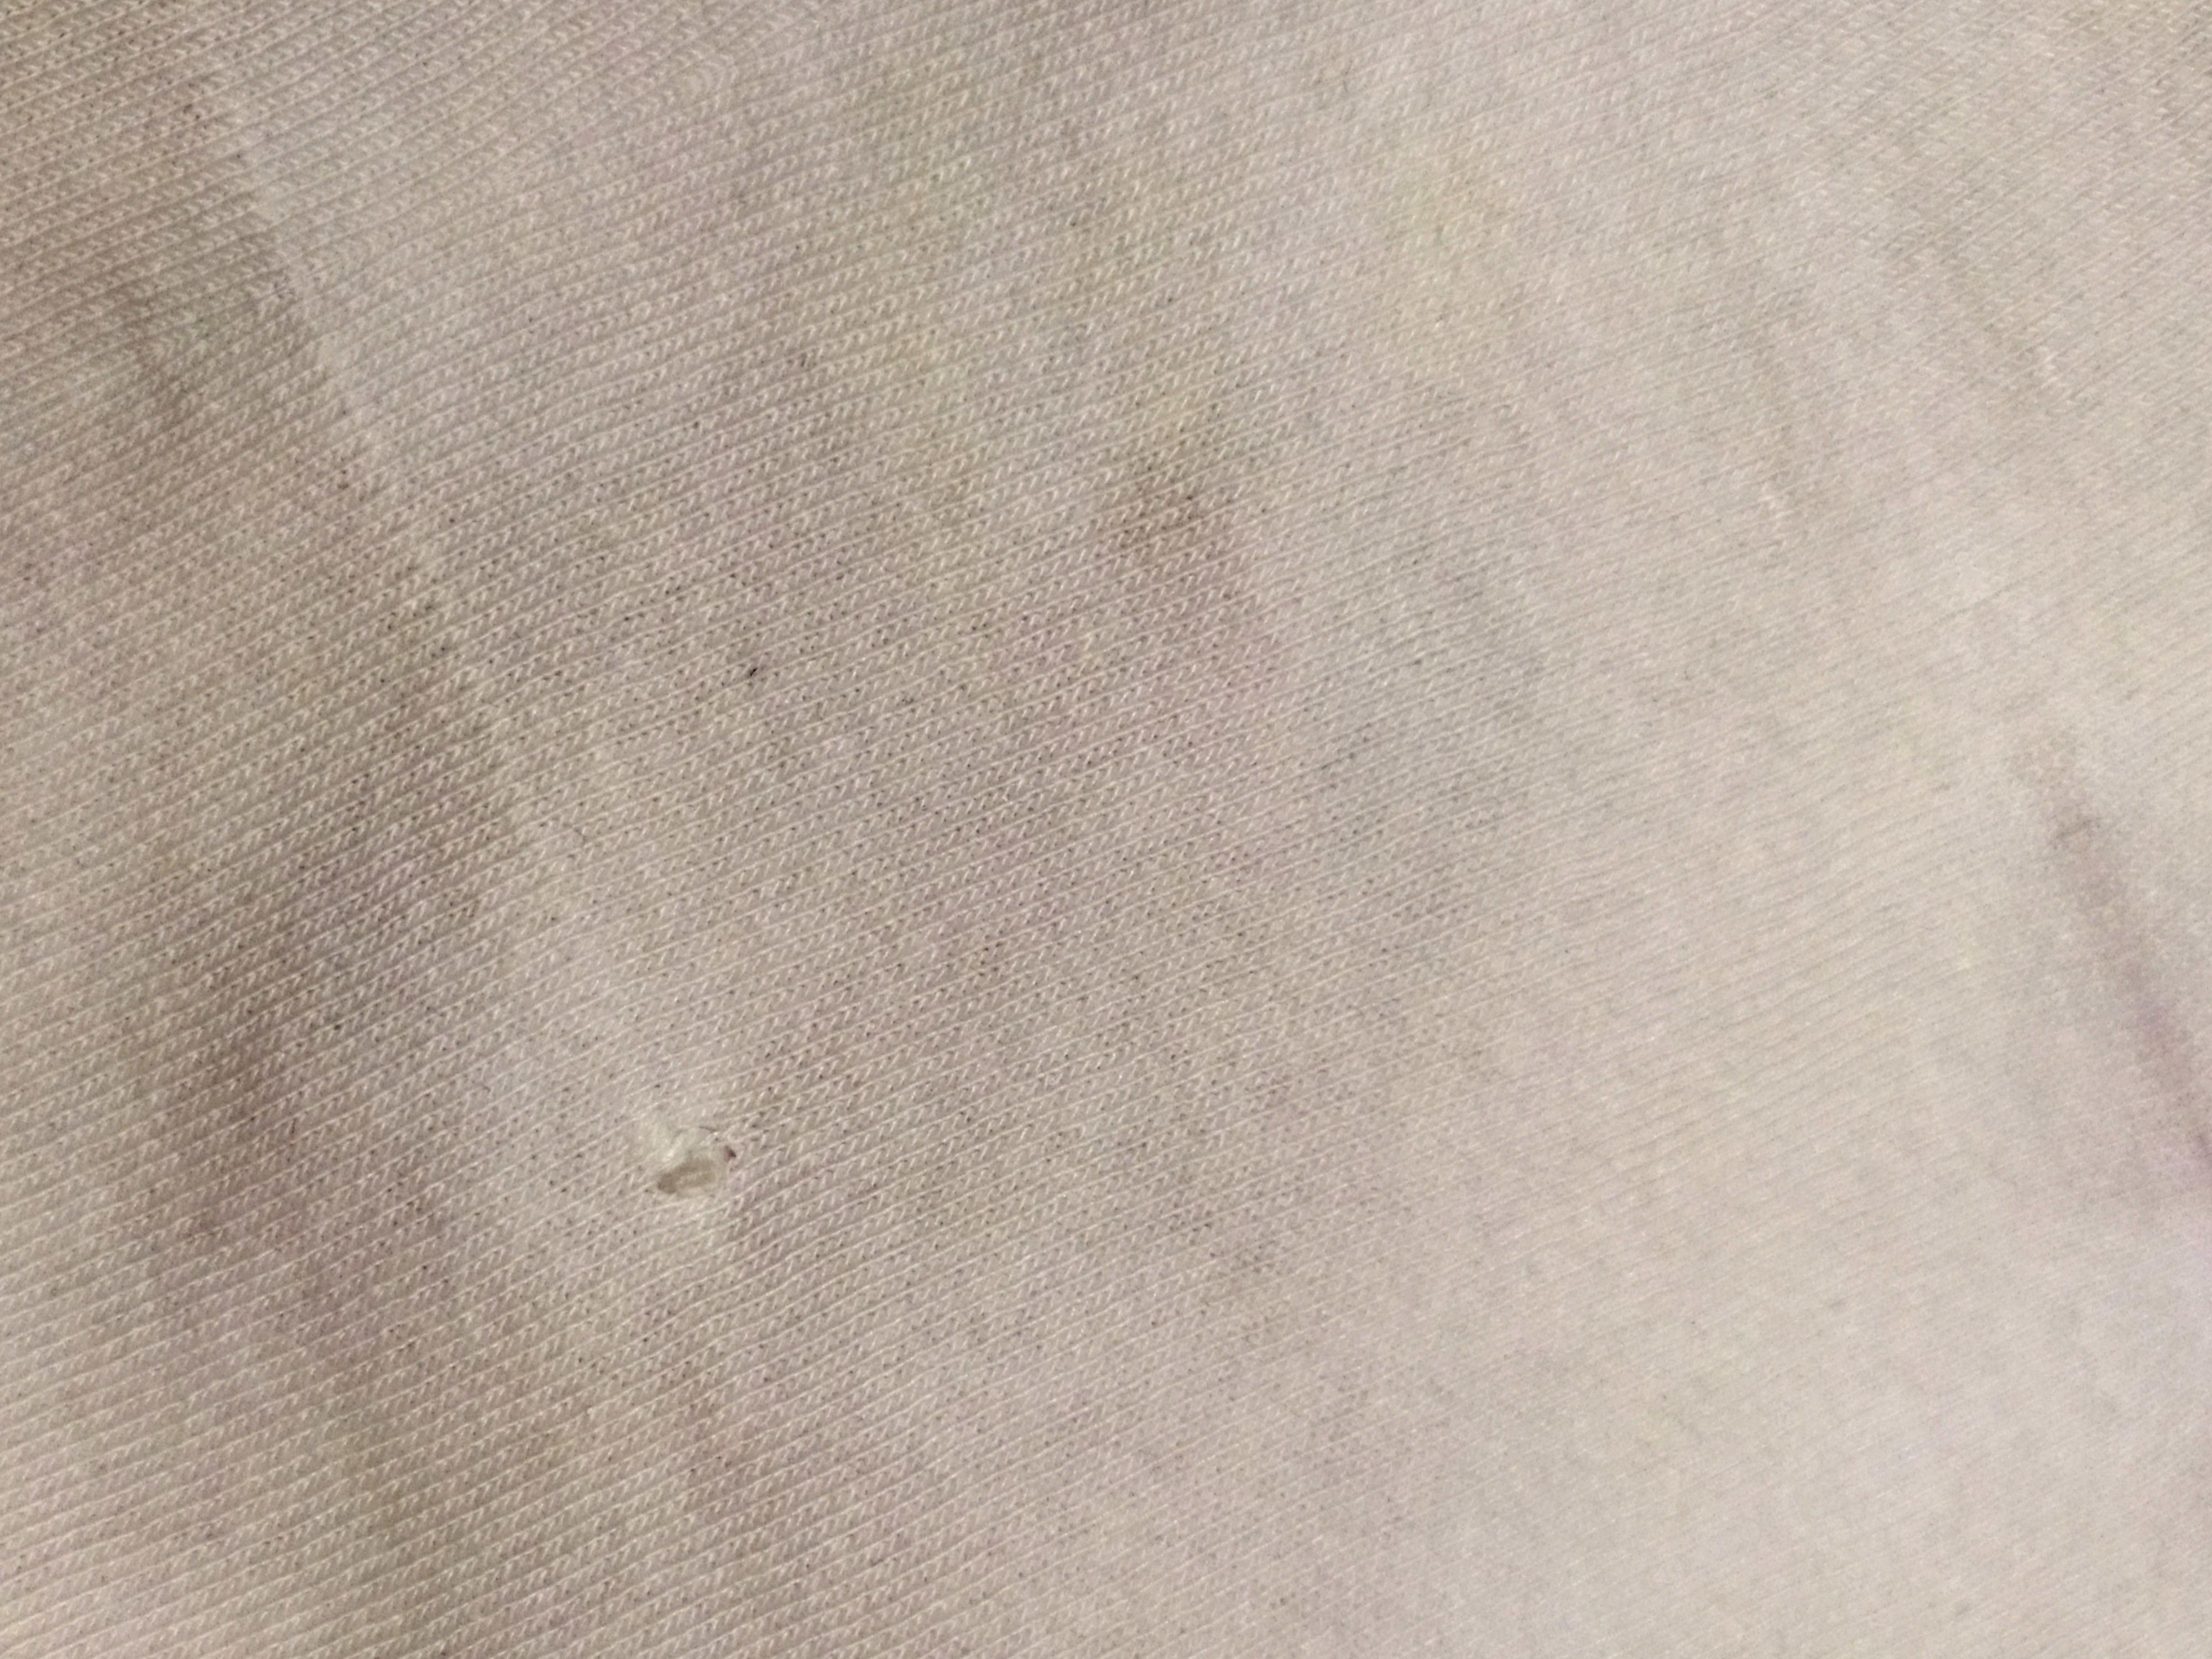knot: (622, 1127, 789, 1236)
